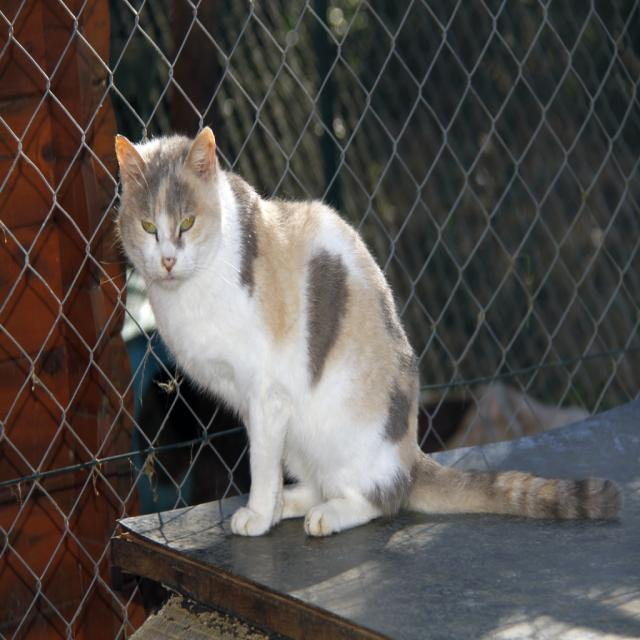Cat: (111, 130, 625, 540)
